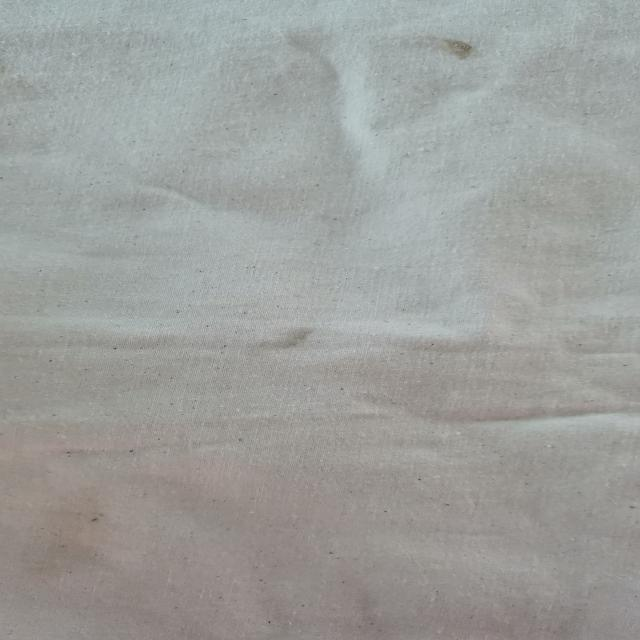taaaches: (246, 309, 345, 366), (400, 20, 496, 70)
